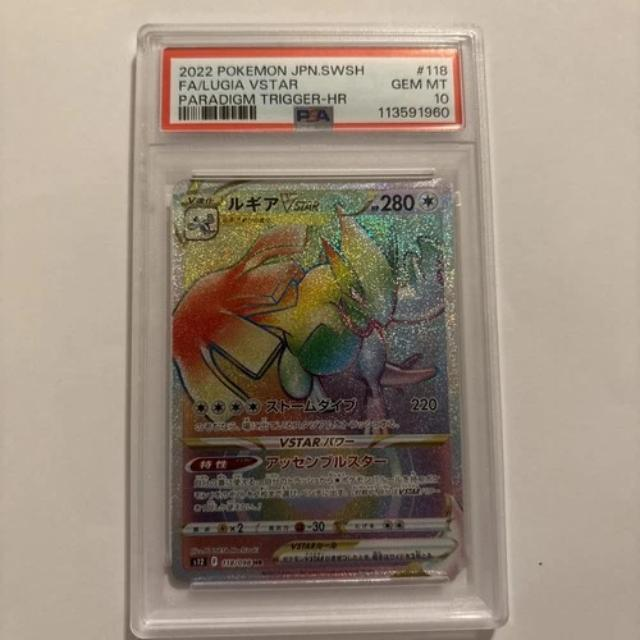Card: (165, 172, 471, 585)
Name: (219, 190, 325, 214)
